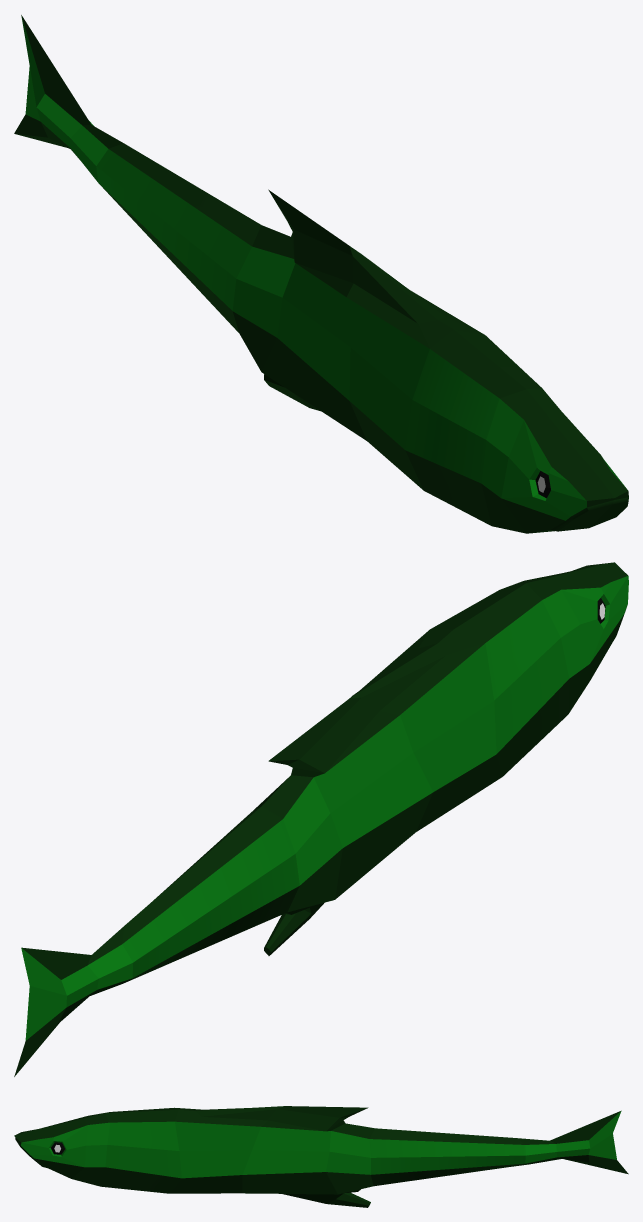
The model's file is Fish-3c.fbx.
3 views of the same model, one above another, from view 1: azimuth 30°, elevation 25°; view 2: azimuth 150°, elevation 25°; view 3: azimuth 270°, elevation 25° (orthographic). The views are drawn at different scales.
Parts seen in each view (by area): view 1: Fish-3c; view 2: Fish-3c; view 3: Fish-3c.
Part boxes in pixels (box(x1,y1,x2,y2)): Fish-3c: box(14, 15, 628, 533); Fish-3c: box(14, 562, 628, 1076); Fish-3c: box(14, 1106, 628, 1207).
Bounding box in the file's own units: 0.0762 × 0.1587 × 0.868.
